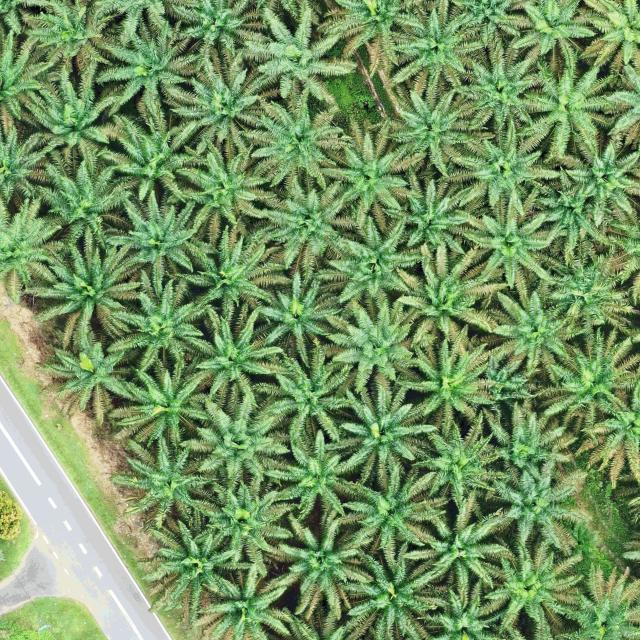Tree: (28, 239, 145, 355), (273, 510, 383, 628), (169, 223, 295, 325), (241, 0, 354, 112), (92, 16, 206, 127), (232, 89, 352, 193), (172, 141, 286, 246), (321, 296, 437, 398), (20, 55, 128, 164), (392, 325, 502, 432), (257, 348, 363, 459), (105, 265, 218, 369), (169, 394, 291, 490), (538, 325, 640, 439), (397, 246, 510, 348), (444, 120, 561, 218), (108, 437, 221, 538), (98, 111, 212, 211), (107, 359, 228, 453), (188, 303, 290, 414), (517, 53, 621, 161), (253, 173, 360, 277), (255, 426, 368, 524), (402, 497, 516, 594), (172, 53, 280, 155), (486, 532, 587, 639), (337, 546, 451, 640), (106, 197, 222, 289), (382, 0, 488, 100), (527, 162, 629, 264), (462, 182, 561, 286), (490, 460, 596, 557), (337, 388, 438, 489), (37, 326, 139, 425), (35, 158, 138, 254), (478, 394, 583, 486), (323, 214, 423, 310), (391, 84, 493, 178), (413, 415, 515, 507), (203, 474, 295, 574), (494, 281, 588, 378), (349, 464, 450, 554), (544, 248, 640, 340), (318, 0, 426, 81), (323, 132, 414, 225), (192, 561, 299, 640), (386, 172, 488, 253), (255, 270, 344, 362), (450, 54, 544, 138), (154, 514, 245, 600), (18, 0, 123, 73), (544, 563, 640, 640), (559, 141, 640, 231), (0, 186, 63, 301), (581, 370, 640, 492), (0, 29, 65, 131), (171, 0, 270, 63), (510, 0, 596, 71), (579, 0, 640, 95), (82, 0, 207, 46), (410, 585, 514, 640), (0, 116, 59, 204), (443, 0, 539, 47), (605, 201, 640, 303), (603, 56, 640, 150), (238, 0, 329, 21), (0, 0, 49, 36)
